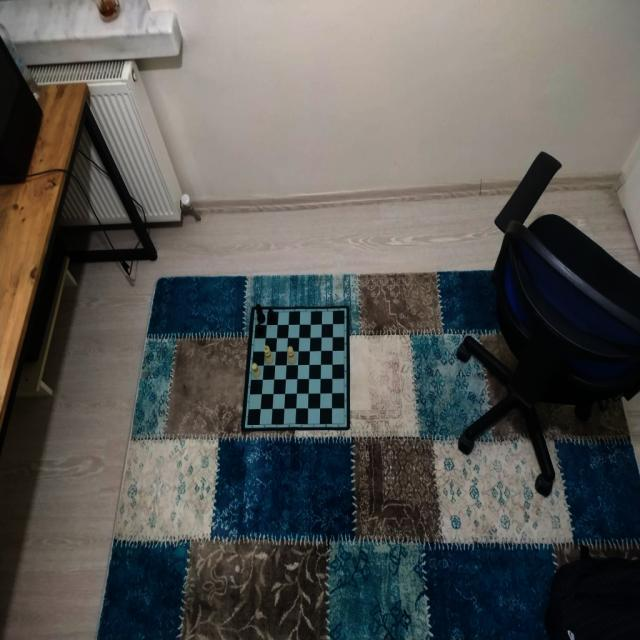chess-table-corners: (242, 418, 252, 431), (340, 306, 348, 316), (340, 420, 348, 428), (253, 309, 260, 317)
